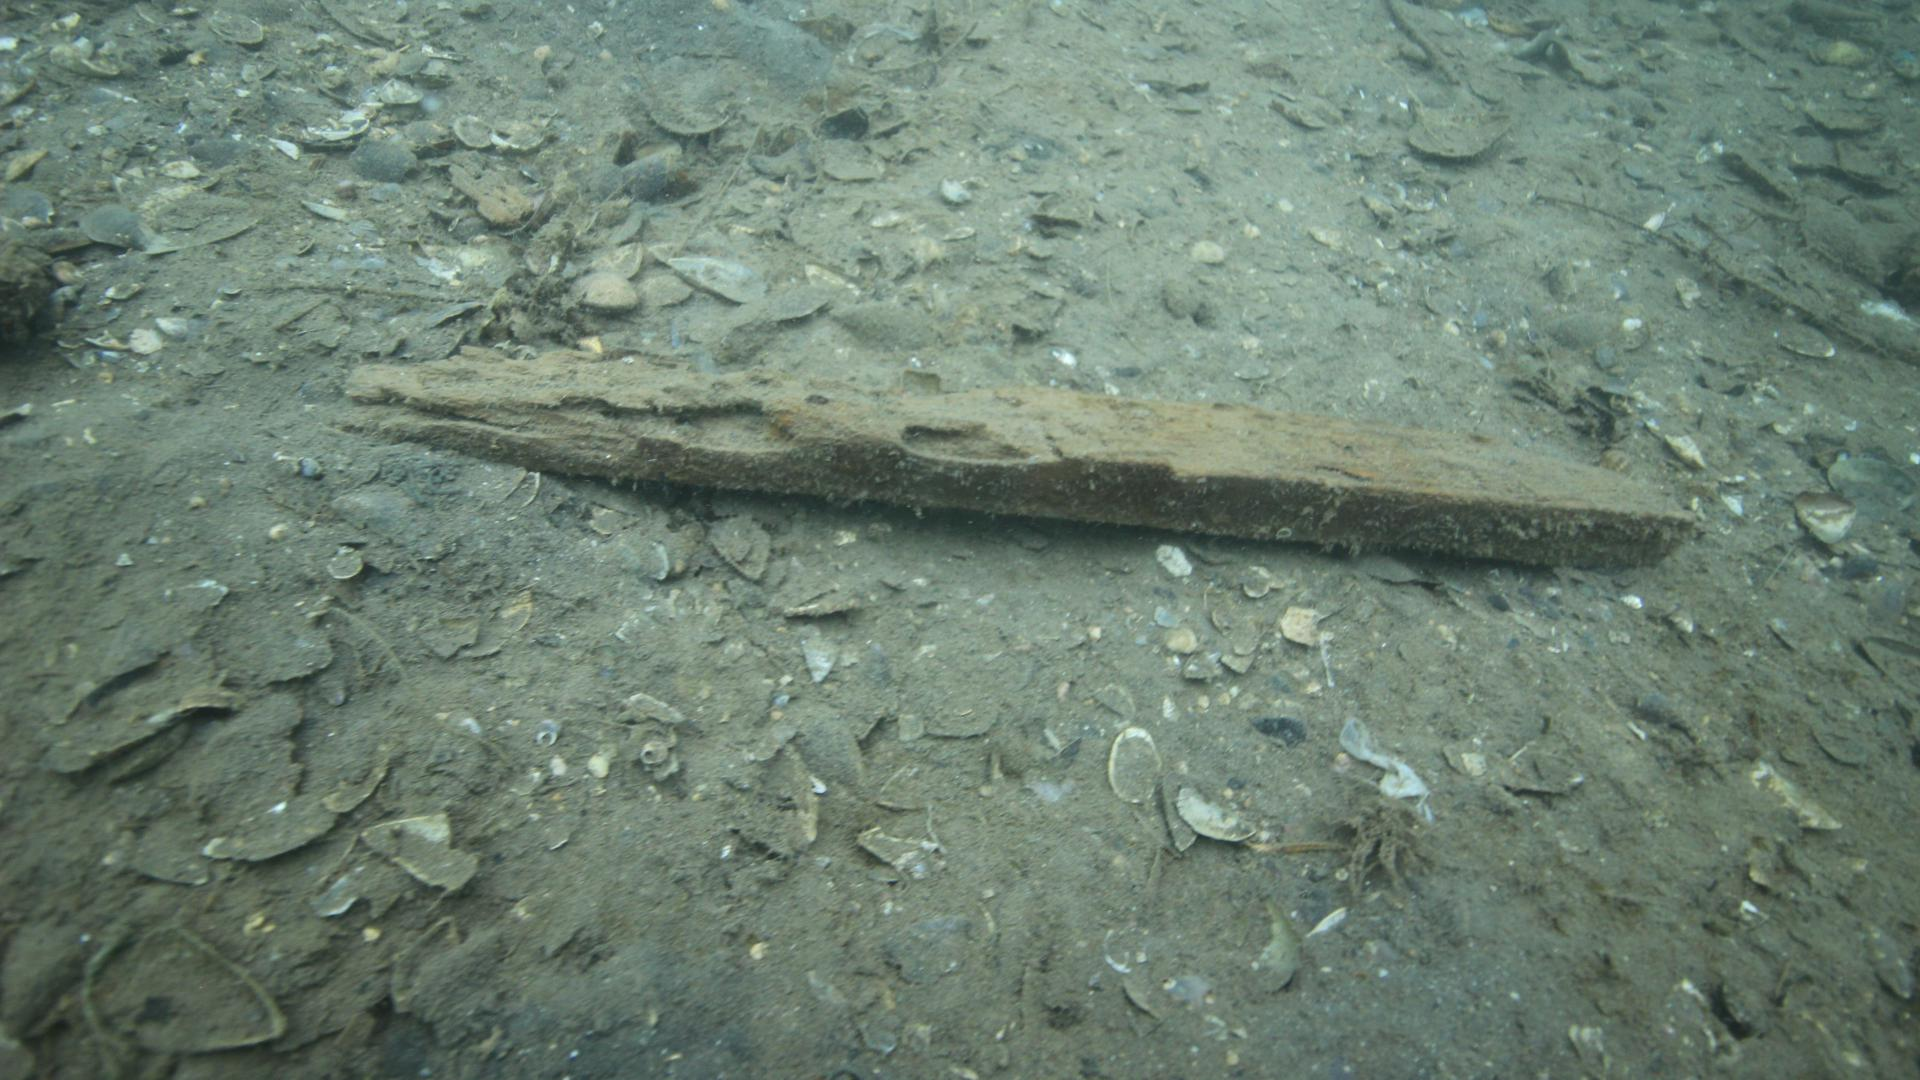wood: (338, 340, 1713, 580)
